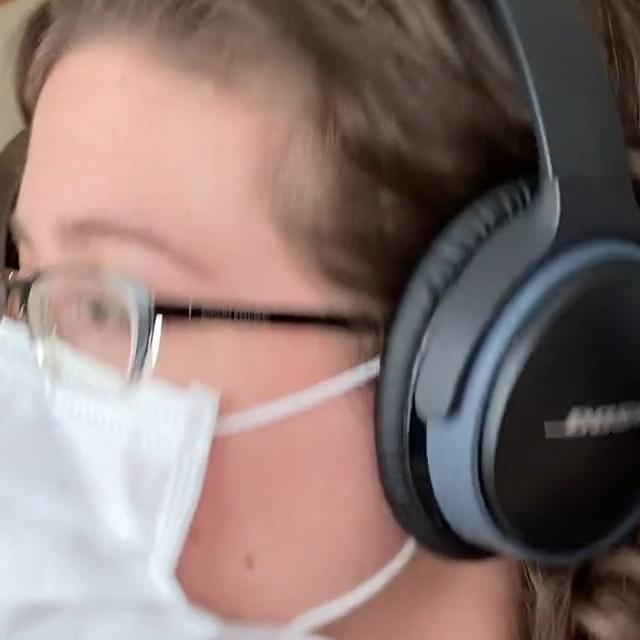Mask: (0, 316, 414, 640)
NO-Hardhat: (0, 0, 640, 258)
Person: (0, 0, 640, 640)
